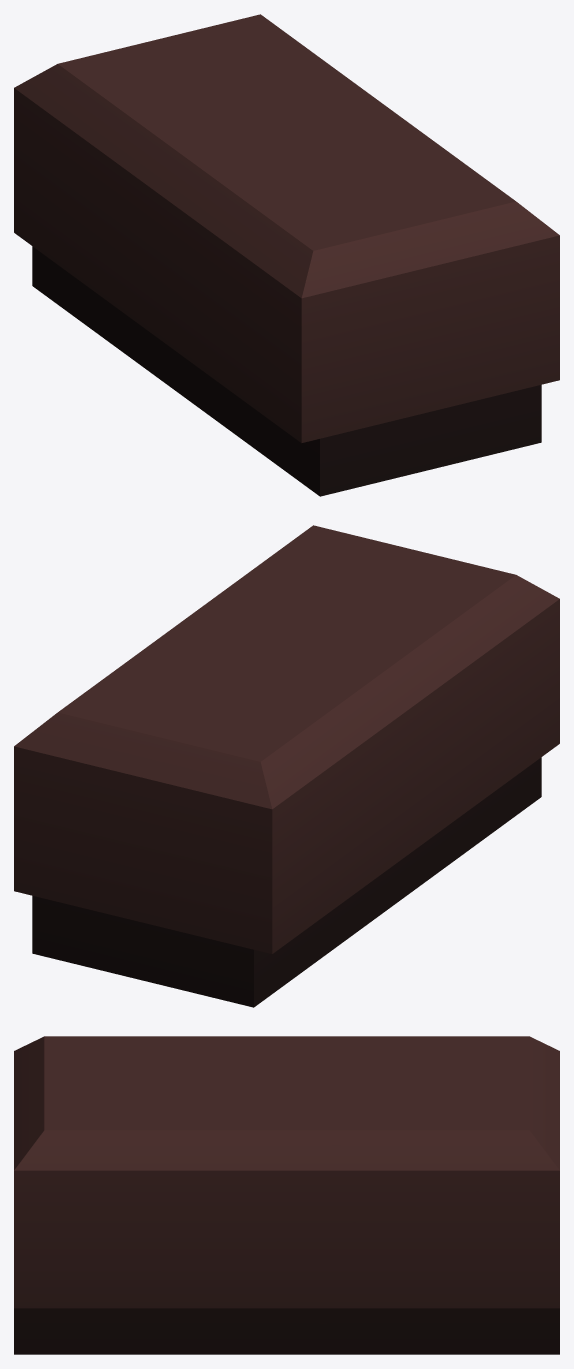
Rendered from locomotive.glb.
The picture shows the model from 3 angles, top to bottom: view 1: azimuth 30°, elevation 25°; view 2: azimuth 150°, elevation 25°; view 3: azimuth 270°, elevation 25°; orthographic projection. The views are drawn at different scales.
Visible parts, largest first — view 1: locomotive; view 2: locomotive; view 3: locomotive.
Boxes of the visible parts, x1=… form: locomotive: x1=14, y1=14, x2=559, y2=496; locomotive: x1=14, y1=525, x2=559, y2=1007; locomotive: x1=14, y1=1036, x2=559, y2=1354.
Bounding box in the file's own units: 0.14 × 0.12 × 0.27.
